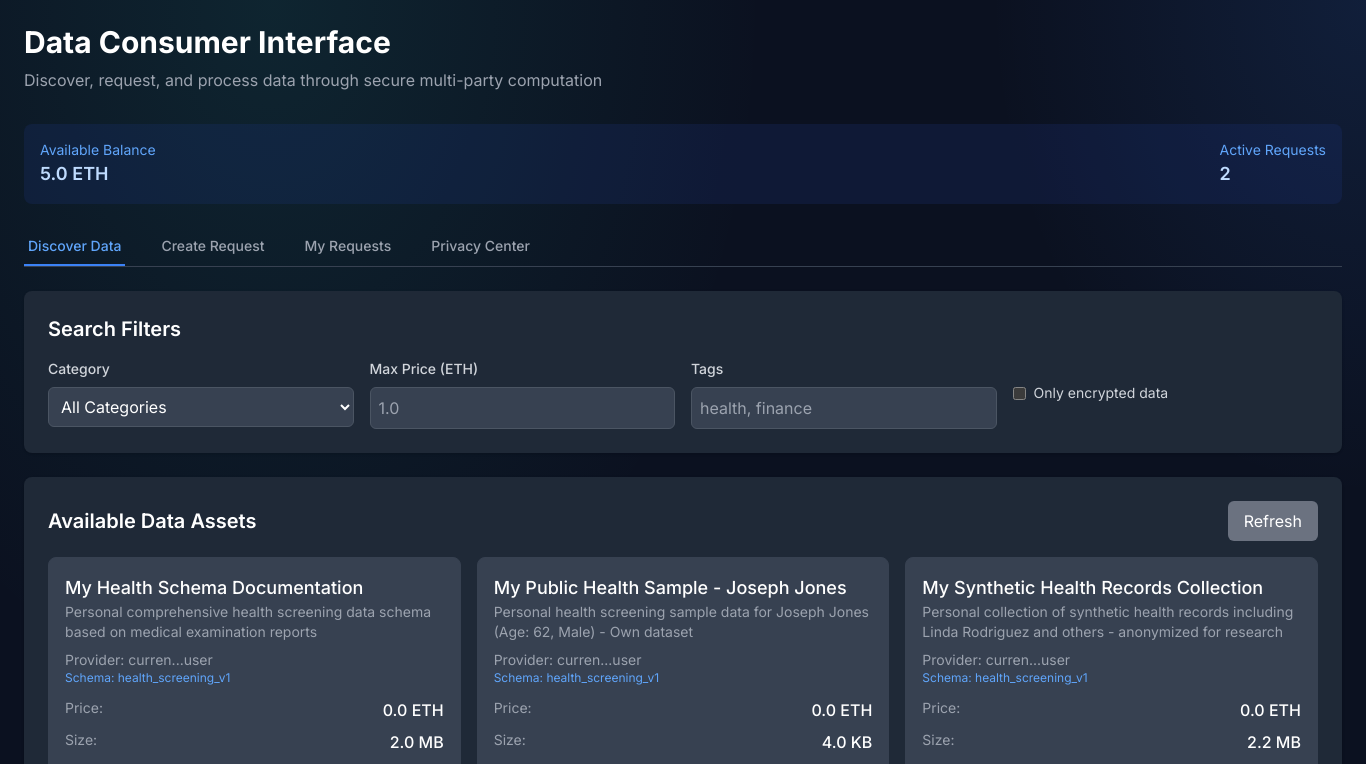
Test case: DataConsumerInterface › displays data subject rights buttons
The image size is (1366, 764).
Note: Switch to Privacy Center tab
Click the button "Privacy Center".
click(481, 247)  # box [427,228,534,266]
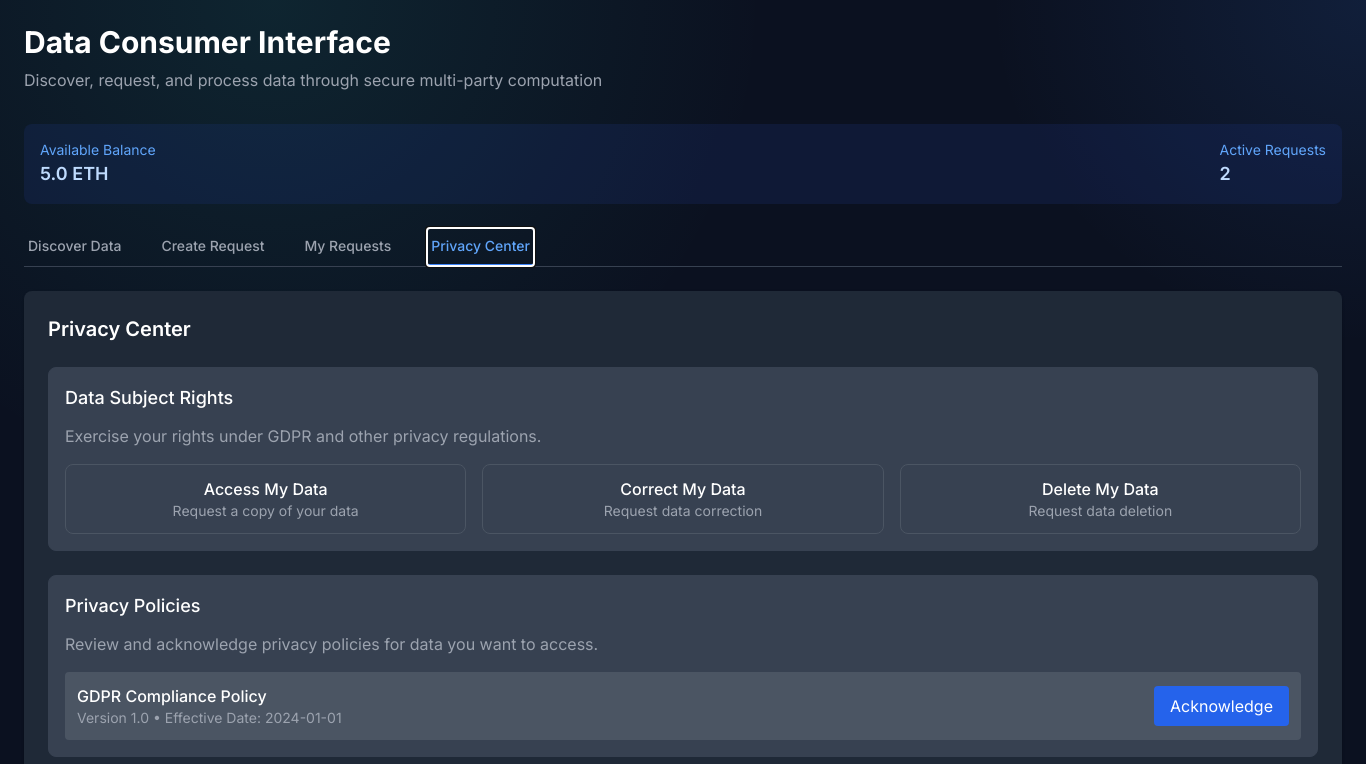
Check: the text "Access My Data" is shown, box [204,479,328,499]
Check: the text "Correct My Data" is shown, box [620,479,746,499]
Check: the text "Delete My Data" is shown, box [1042,479,1159,499]
